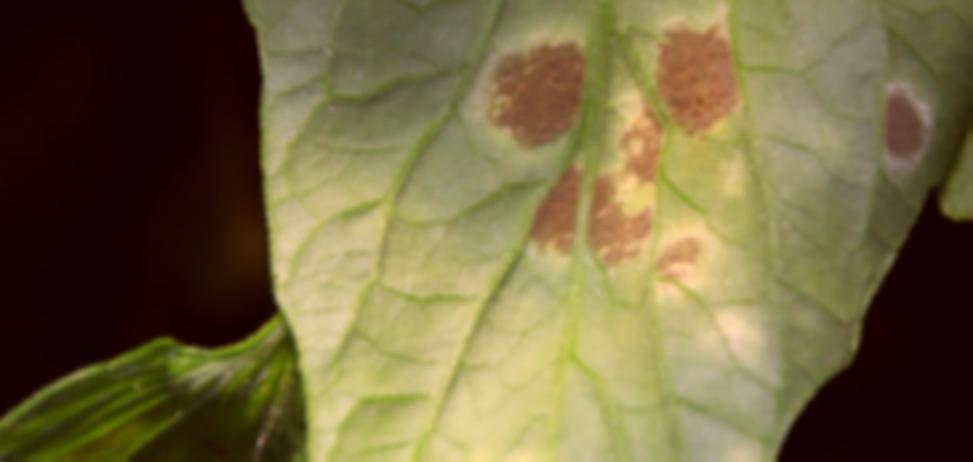Tomato mold leaf: (217, 0, 973, 462)
